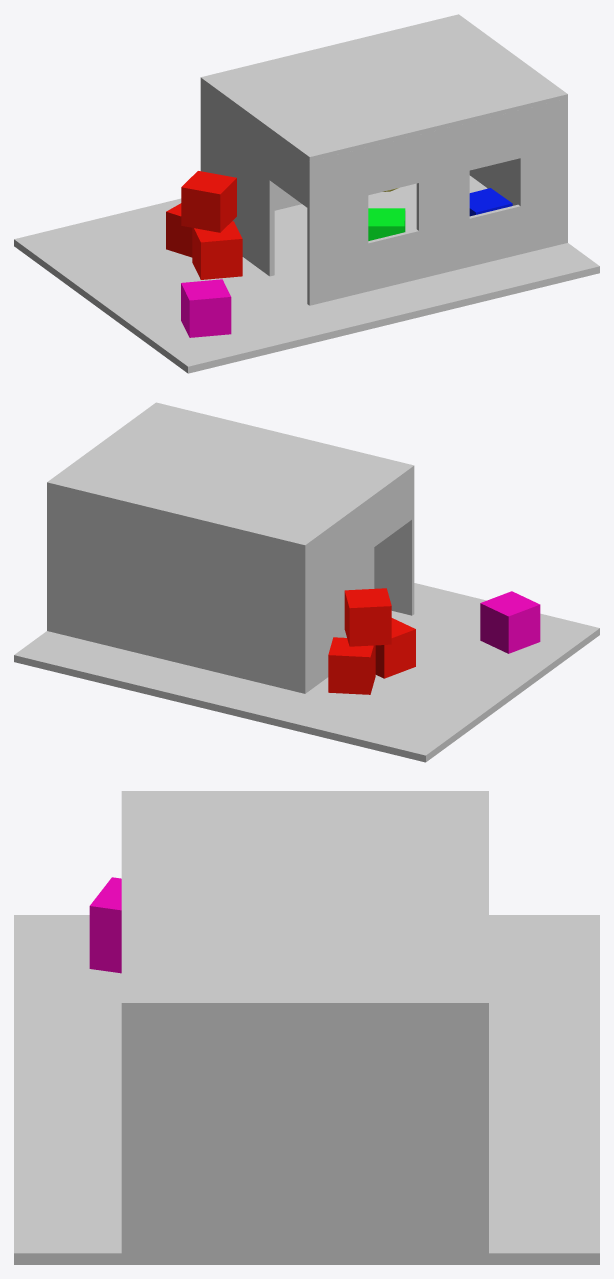
The model's file is presentation.glb.
The picture shows the model from 3 angles, top to bottom: view 1: azimuth 30°, elevation 25°; view 2: azimuth 150°, elevation 25°; view 3: azimuth 270°, elevation 25°; orthographic projection. The views are drawn at different scales.
Parts seen in each view (by area): view 1: Cube, Cube.002, Cube.005, Cube.003, Cube.004, Cube.001, Cube.006; view 2: Cube, Cube.005, Cube.002, Cube.001, Cube.003; view 3: Cube, Cube.005.
Boxes of the visible parts, bbox=[...] form: Cube: bbox=[14, 14, 599, 373]; Cube.002: bbox=[181, 171, 236, 232]; Cube.005: bbox=[181, 279, 231, 337]; Cube.003: bbox=[192, 221, 242, 279]; Cube.004: bbox=[368, 208, 405, 240]; Cube.001: bbox=[166, 203, 192, 257]; Cube.006: bbox=[469, 188, 512, 216]; Cube: bbox=[14, 402, 599, 762]; Cube.005: bbox=[480, 591, 540, 653]; Cube.002: bbox=[344, 588, 391, 646]; Cube.001: bbox=[328, 637, 375, 694]; Cube.003: bbox=[375, 618, 415, 678]; Cube: bbox=[14, 791, 599, 1264]; Cube.005: bbox=[89, 877, 121, 973].
Bounding box in the file's own units: 38.34 × 13.84 × 28.08.
